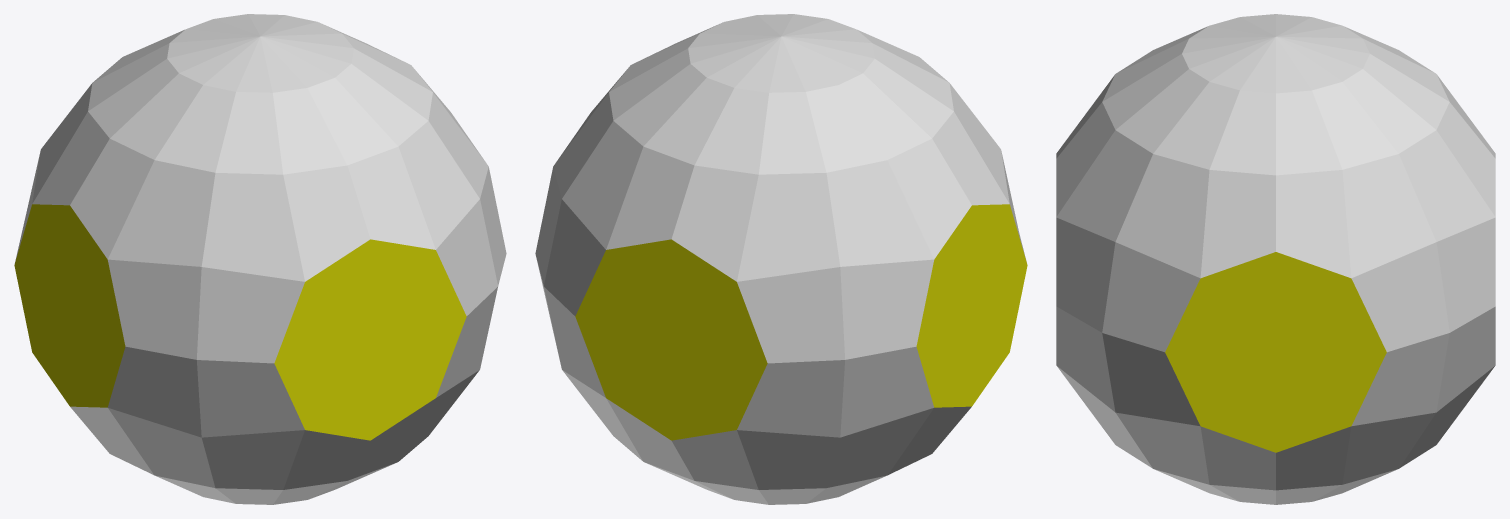
Rendered from mine.fbx.
3 renders of one model, left to right at view 1: azimuth 30°, elevation 25°; view 2: azimuth 150°, elevation 25°; view 3: azimuth 270°, elevation 25°, orthographic.
Parts seen in each view (by area): view 1: Mine; view 2: Mine; view 3: Mine.
Part boxes in pixels (<box>): Mine: <box>14,14,506,504</box>; Mine: <box>535,14,1027,504</box>; Mine: <box>1056,14,1495,504</box>.
Size of the model in its own units: 179 by 200 by 179.
